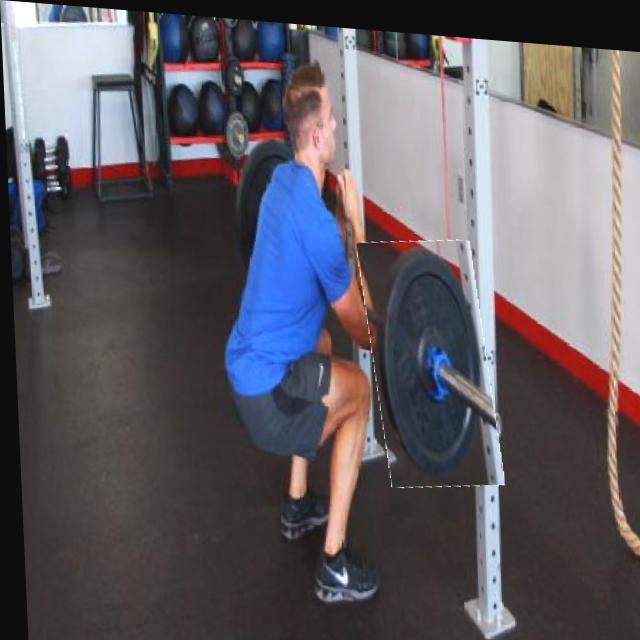barbell: (361, 229, 495, 486)
